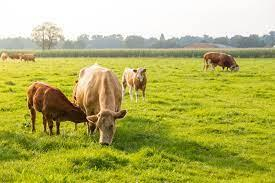cow: (74, 64, 127, 147), (26, 82, 89, 137), (122, 67, 147, 99), (202, 52, 240, 72), (19, 53, 37, 62)
